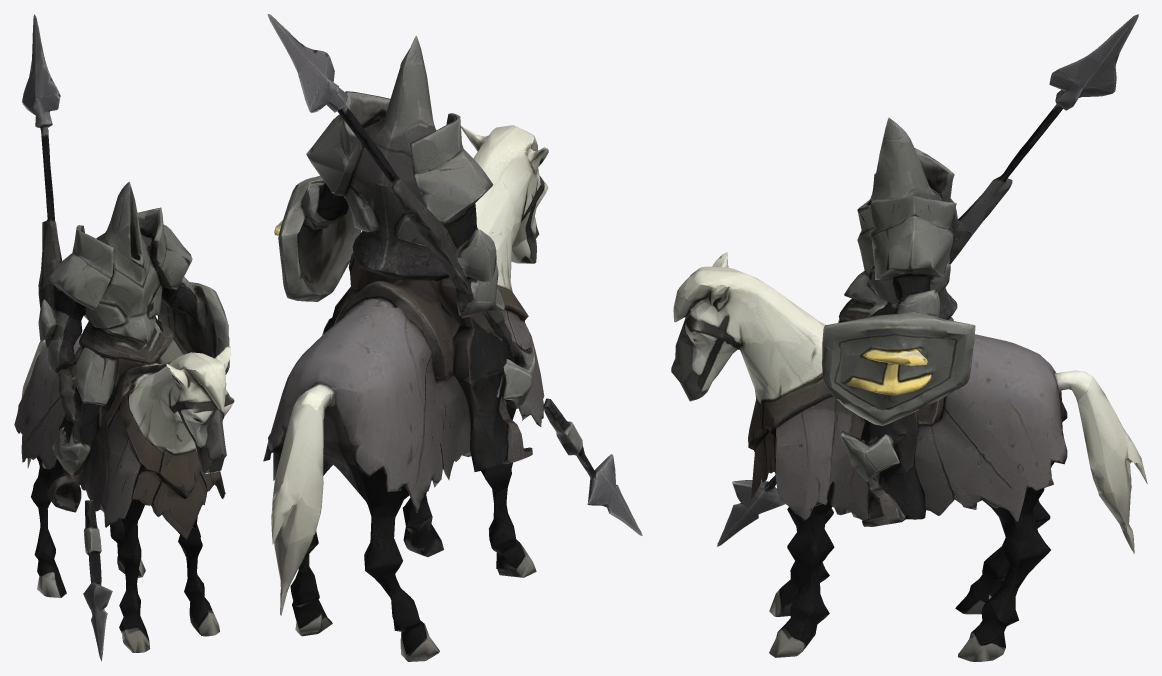
File: boss.glb
3 views of the same model, side by side, from view 1: azimuth 30°, elevation 25°; view 2: azimuth 150°, elevation 25°; view 3: azimuth 270°, elevation 25° (orthographic). The views are drawn at different scales.
Visible parts, largest first — view 1: model; view 2: model; view 3: model.
Part boxes in pixels (bbox=[...]): model: bbox=[14, 14, 234, 661]; model: bbox=[263, 14, 642, 661]; model: bbox=[671, 14, 1147, 661].
Bounding box in the file's own units: 0.3876 × 1 × 0.6926.
1 material, 1 textured.
